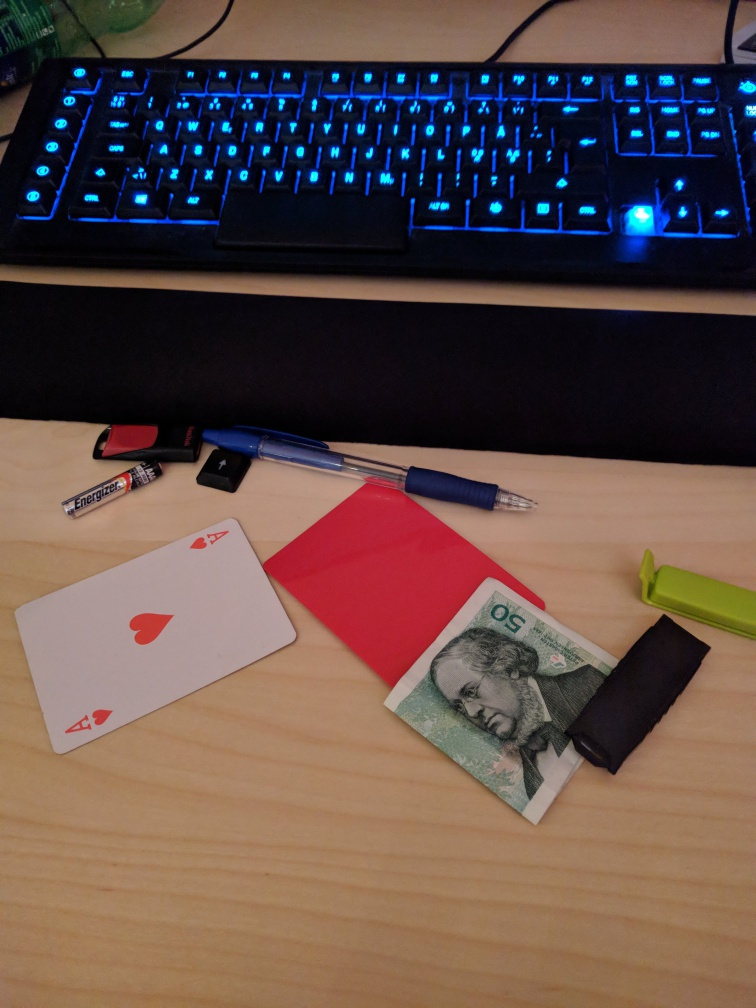ace: (14, 518, 296, 757)
